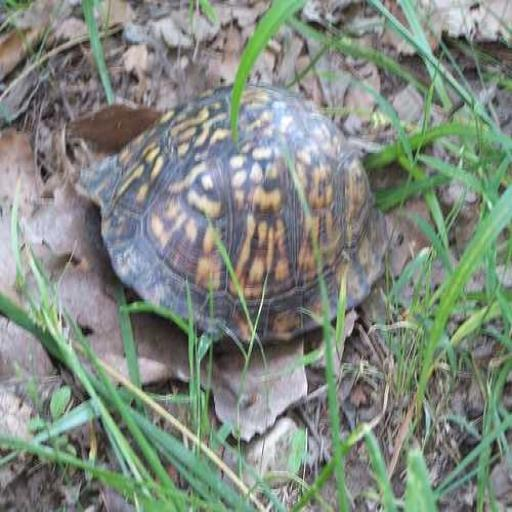turtle: (72, 78, 408, 370)
